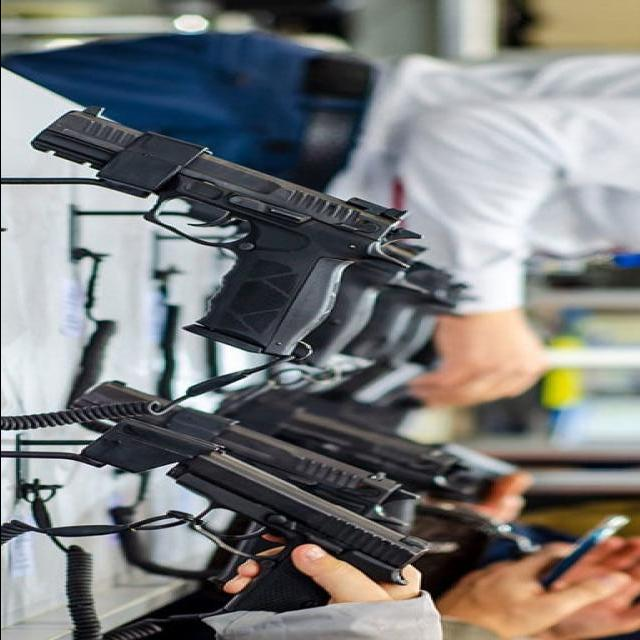pistol: (45, 102, 419, 352), (145, 458, 434, 600), (131, 381, 391, 510)
